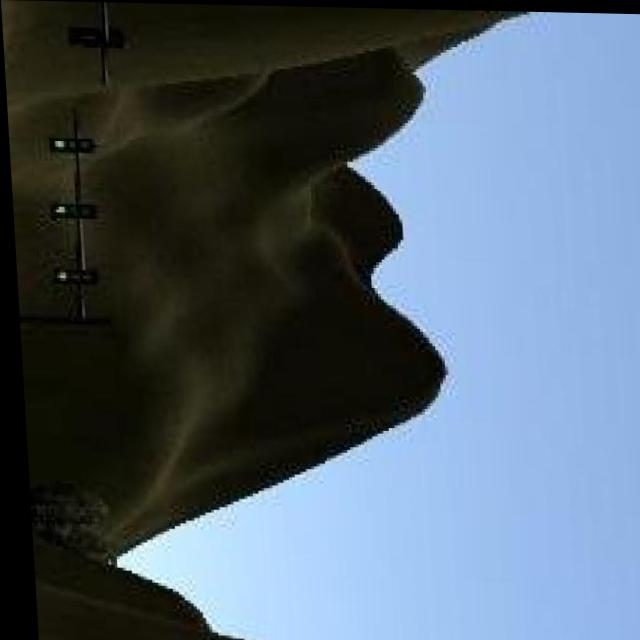green light: (43, 267, 96, 287), (44, 133, 93, 154), (47, 201, 96, 222)
